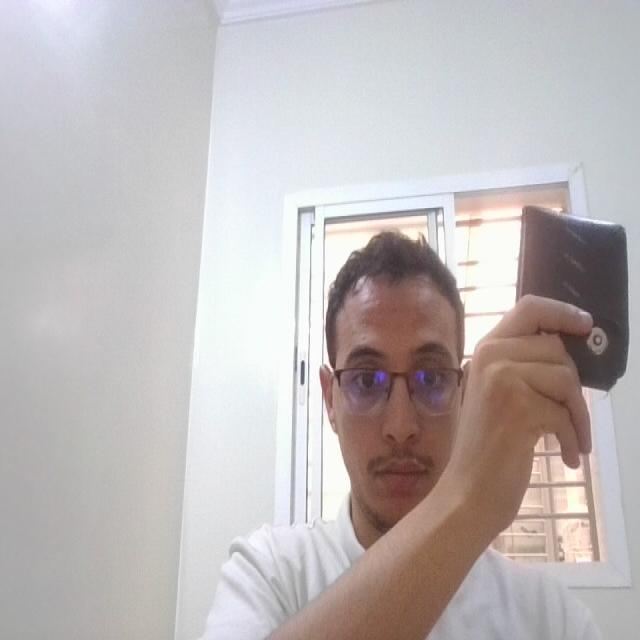wallet: (512, 199, 636, 397)
